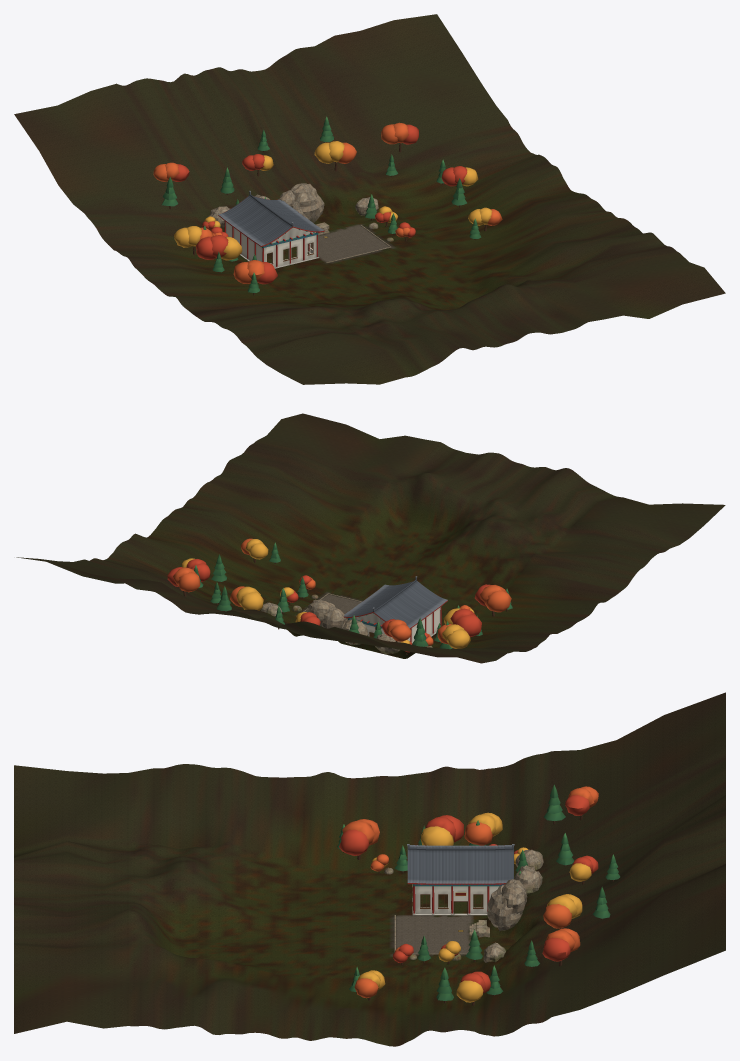
The model's file is world.glb.
The picture shows the model from 3 angles, top to bottom: view 1: azimuth 30°, elevation 25°; view 2: azimuth 150°, elevation 25°; view 3: azimuth 270°, elevation 25°; orthographic projection. The views are drawn at different scales.
Visible parts, largest first — view 1: ground, maple, dharmaRoof, pine, dharmaWalls, rocks; view 2: ground, maple, dharmaRoof, pine, rocks, dharmaWalls; view 3: ground, maple, dharmaRoof, pine, rocks, dharmaFront.
Boxes of the visible parts, x1=… form: ground: x1=14, y1=14, x2=725, y2=384; maple: x1=153, y1=122, x2=502, y2=284; dharmaRoof: x1=218, y1=191, x2=324, y2=246; pine: x1=162, y1=116, x2=481, y2=295; dharmaWalls: x1=224, y1=221, x2=319, y2=267; rocks: x1=208, y1=183, x2=393, y2=241; ground: x1=16, y1=413, x2=725, y2=663; maple: x1=167, y1=538, x2=511, y2=654; dharmaRoof: x1=343, y1=576, x2=447, y2=628; pine: x1=194, y1=542, x2=512, y2=649; rocks: x1=260, y1=594, x2=432, y2=654; dharmaWalls: x1=346, y1=606, x2=441, y2=643; ground: x1=14, y1=692, x2=725, y2=1046; maple: x1=339, y1=786, x2=598, y2=1005; dharmaRoof: x1=407, y1=844, x2=514, y2=884; pine: x1=337, y1=784, x2=620, y2=1003; rocks: x1=384, y1=849, x2=543, y2=962; dharmaFront: x1=413, y1=884, x2=503, y2=914.
Size of the model in its own units: 148 by 34.22 by 175.
4 materials, 3 textured.
